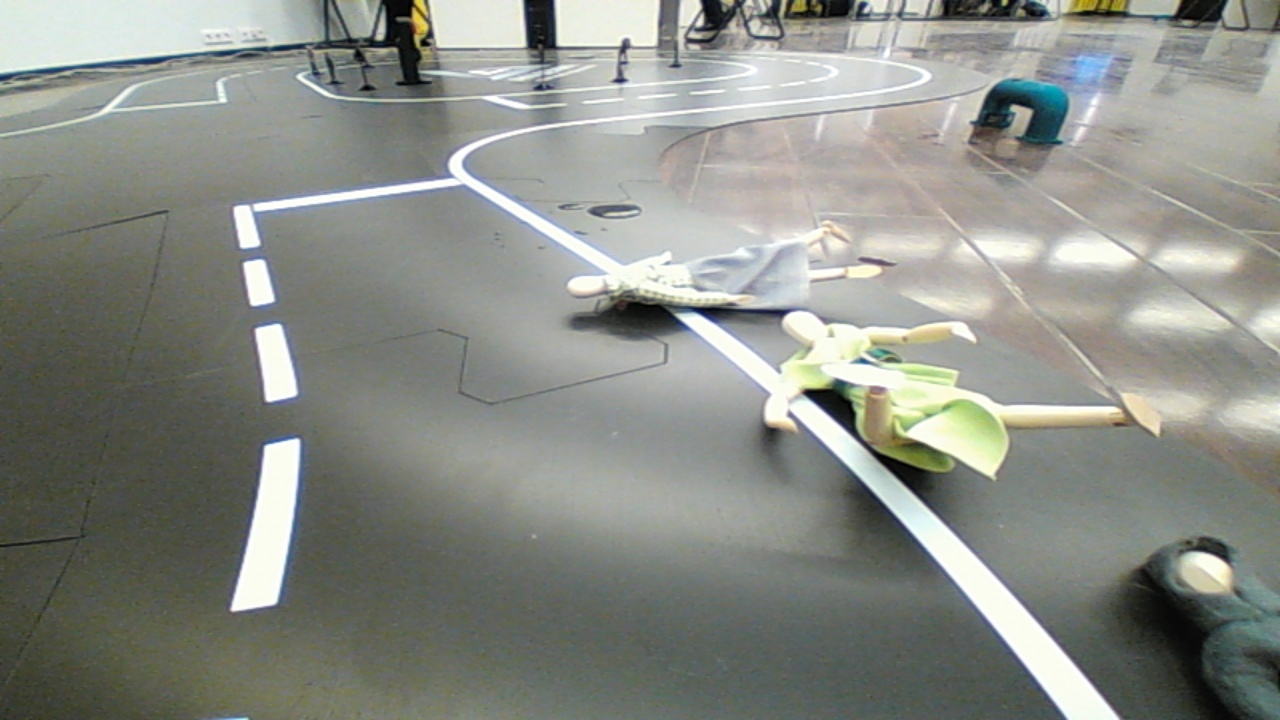Road works: (748, 300, 1170, 493), (548, 210, 870, 324)
